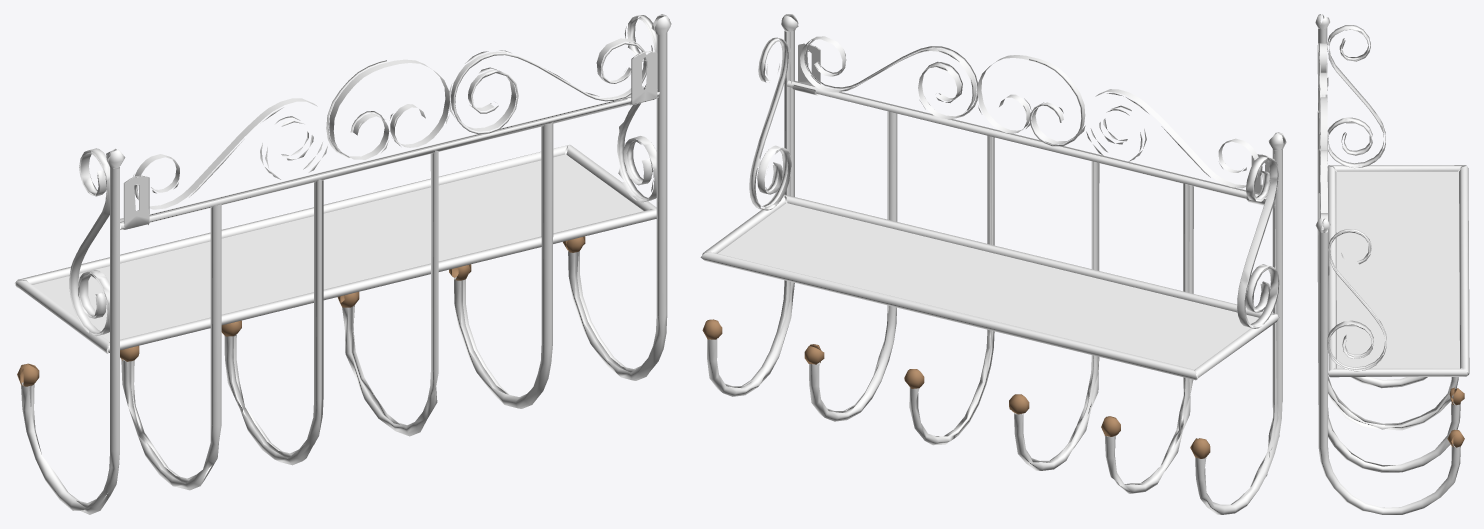
The model's file is J_CoatRackB_LOD1.obj.
The picture shows the model from 3 angles, left to right: view 1: azimuth 30°, elevation 25°; view 2: azimuth 150°, elevation 25°; view 3: azimuth 270°, elevation 25°; orthographic projection. The views are drawn at different scales.
Visible parts, largest first — view 1: J_CoatRackB_m0, J_CoatRackB_m1, J_CoatRackB_m2; view 2: J_CoatRackB_m0, J_CoatRackB_m1, J_CoatRackB_m2; view 3: J_CoatRackB_m1, J_CoatRackB_m0, J_CoatRackB_m2.
Boxes of the visible parts, x1=… form: J_CoatRackB_m0: x1=14, y1=14, x2=671, y2=514; J_CoatRackB_m1: x1=32, y1=153, x2=643, y2=346; J_CoatRackB_m2: x1=17, y1=236, x2=585, y2=386; J_CoatRackB_m0: x1=700, y1=14, x2=1286, y2=514; J_CoatRackB_m1: x1=718, y1=202, x2=1258, y2=373; J_CoatRackB_m2: x1=702, y1=319, x2=1210, y2=458; J_CoatRackB_m1: x1=1336, y1=170, x2=1461, y2=368; J_CoatRackB_m0: x1=1315, y1=14, x2=1469, y2=514; J_CoatRackB_m2: x1=1447, y1=387, x2=1464, y2=447.
Bounding box in the file's own units: 0.6569 × 0.4546 × 0.2034.
